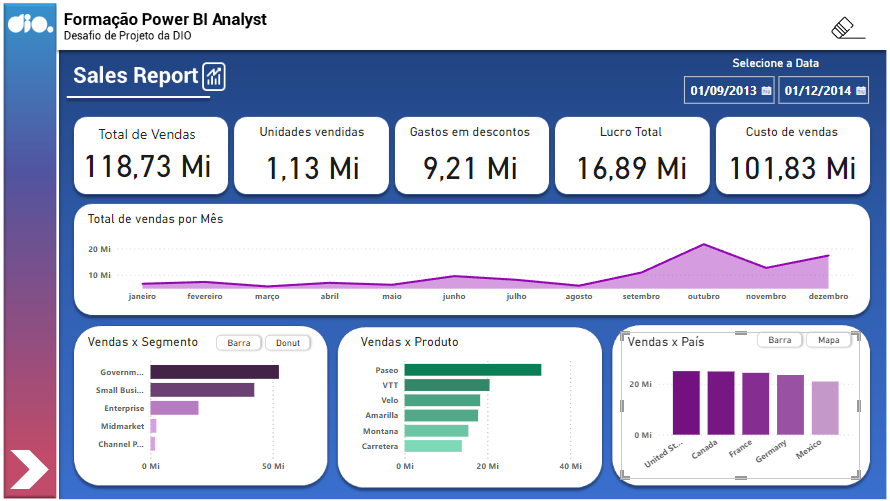

Layout of this report page (visuals, bound fields, positions):
{"tool":"powerbi","page":{"name":"Página 1","canvas":[1280,720],"ordinal":0},"visuals":[{"type":"image","box":[0,0,1280.5,720],"z":0},{"type":"image","box":[1189.4,12.5,59.2,59.2],"z":0,"group":"g1"},{"type":"card","title":"Total de Vendas","fields":{"Values":["Sum(F_Vendas. Sales)"]},"box":[113.5,180.4,205.3,94.9],"z":0,"group":"g2"},{"type":"filledMap","title":"País","fields":{"Category":["F_Vendas.Country"]},"box":[893,480,341.7,206.7],"z":500,"group":"g3"},{"type":"slicer","title":"Selecione a Data","fields":{"Values":["F_Vendas.Date"]},"box":[970.2,82.8,288.1,75.2],"z":1000,"group":"g1"},{"type":"card","title":"Unidades vendidas","fields":{"Values":["Sum(F_Vendas.Units Sold)"]},"box":[349.9,180.4,205.3,94.9],"z":1000,"group":"g2"},{"type":"shape","box":[20,645.7,55.7,55.7],"z":1000},{"type":"clusteredBarChart","title":"Vendas x Segmento ","fields":{"Category":["D_Detalhes.Segment"],"Y":["Sum(D_Detalhes. Sales)"]},"box":[126.7,480,326.7,206.7],"z":1125,"group":"g4"},{"type":"donutChart","title":"Vendas x Segmento ","fields":{"Category":["D_Detalhes.Segment"],"Y":["Sum(D_Detalhes. Sales)"]},"box":[126,480.6,326.6,206.9],"z":1187,"group":"g4"},{"type":"actionButton","title":"Barra","box":[1087.8,477.4,63.8,21.5],"z":1250,"group":"g3"},{"type":"actionButton","title":"Donut","box":[385,481.5,63.8,21.5],"z":1250,"group":"g4"},{"type":"actionButton","title":"Mapa","box":[1157.8,477.4,63.8,21.5],"z":1500,"group":"g3"},{"type":"actionButton","title":"Barra","box":[315,481.5,63.8,21.5],"z":1500,"group":"g4"},{"type":"actionButton","box":[1189.5,21.6,58.6,39.5],"z":2000,"group":"g1"},{"type":"card","title":"Gastos em descontos","fields":{"Values":["Sum(D_Detalhes.Discounts)"]},"box":[575.4,180.4,205.3,94.9],"z":2000,"group":"g2"},{"type":"stackedAreaChart","title":"Total de vendas por Mês","fields":{"Category":["F_Vendas.Date.Variation.Hierarquia de datas.Mês"],"Y":["Sum(F_Vendas. Sales)"]},"box":[126,304.8,1104.3,140],"z":2000},{"type":"card","title":"Lucro Total","fields":{"Values":["Sum(D_Detalhes.Profit)"]},"box":[805.6,180.4,205.3,94.9],"z":3000,"group":"g2"},{"type":"clusteredBarChart","title":"Vendas x Produto","fields":{"Category":["D_Detalhes.Product"],"Y":["Sum(D_Detalhes. Sales)"]},"box":[515,480,326.7,206.7],"z":3000},{"type":"group","id":"g1","title":"Segmentação por data","box":[970.2,12.5,288.1,145.6],"z":4000},{"type":"card","title":"Custo de vendas","fields":{"Values":["Sum(D_Detalhes.COGS)"]},"box":[1034.2,180.4,205.3,94.9],"z":4000,"group":"g2"},{"type":"group","id":"g2","title":"Cartões","box":[113.5,180.4,1126,94.9],"z":5000},{"type":"group","id":"g3","title":"Vendas por país","box":[893,477.4,341.7,210.1],"z":6000},{"type":"group","id":"g4","title":"Vendas por segmento","box":[126,480,327.4,207.4],"z":7000},{"type":"image","box":[286.2,82.5,51.2,58.8],"z":8000}]}

Visuals, with their boxes on the page's 1280x720 design canvas (x1, y1, x2, y2). These are canvas units, not pixel positions in the 890x501 screenshot, which may show the page scaled, cropped or inside an application window:
image: x1=0, y1=0, x2=1280, y2=720
image: x1=1189, y1=12, x2=1249, y2=72
"Total de Vendas" card: x1=114, y1=180, x2=319, y2=275
"País" filledMap: x1=893, y1=480, x2=1235, y2=687
"Selecione a Data" slicer: x1=970, y1=83, x2=1258, y2=158
"Unidades vendidas" card: x1=350, y1=180, x2=555, y2=275
shape: x1=20, y1=646, x2=76, y2=701
"Vendas x Segmento " clusteredBarChart: x1=127, y1=480, x2=453, y2=687
"Vendas x Segmento " donutChart: x1=126, y1=481, x2=453, y2=688
"Barra" actionButton: x1=1088, y1=477, x2=1152, y2=499
"Donut" actionButton: x1=385, y1=482, x2=449, y2=503
"Mapa" actionButton: x1=1158, y1=477, x2=1222, y2=499
"Barra" actionButton: x1=315, y1=482, x2=379, y2=503
actionButton: x1=1190, y1=22, x2=1248, y2=61
"Gastos em descontos" card: x1=575, y1=180, x2=781, y2=275
"Total de vendas por Mês" stackedAreaChart: x1=126, y1=305, x2=1230, y2=445
"Lucro Total" card: x1=806, y1=180, x2=1011, y2=275
"Vendas x Produto" clusteredBarChart: x1=515, y1=480, x2=842, y2=687
"Segmentação por data" group: x1=970, y1=12, x2=1258, y2=158
"Custo de vendas" card: x1=1034, y1=180, x2=1240, y2=275
"Cartões" group: x1=114, y1=180, x2=1240, y2=275
"Vendas por país" group: x1=893, y1=477, x2=1235, y2=688
"Vendas por segmento" group: x1=126, y1=480, x2=453, y2=687
image: x1=286, y1=82, x2=337, y2=141
